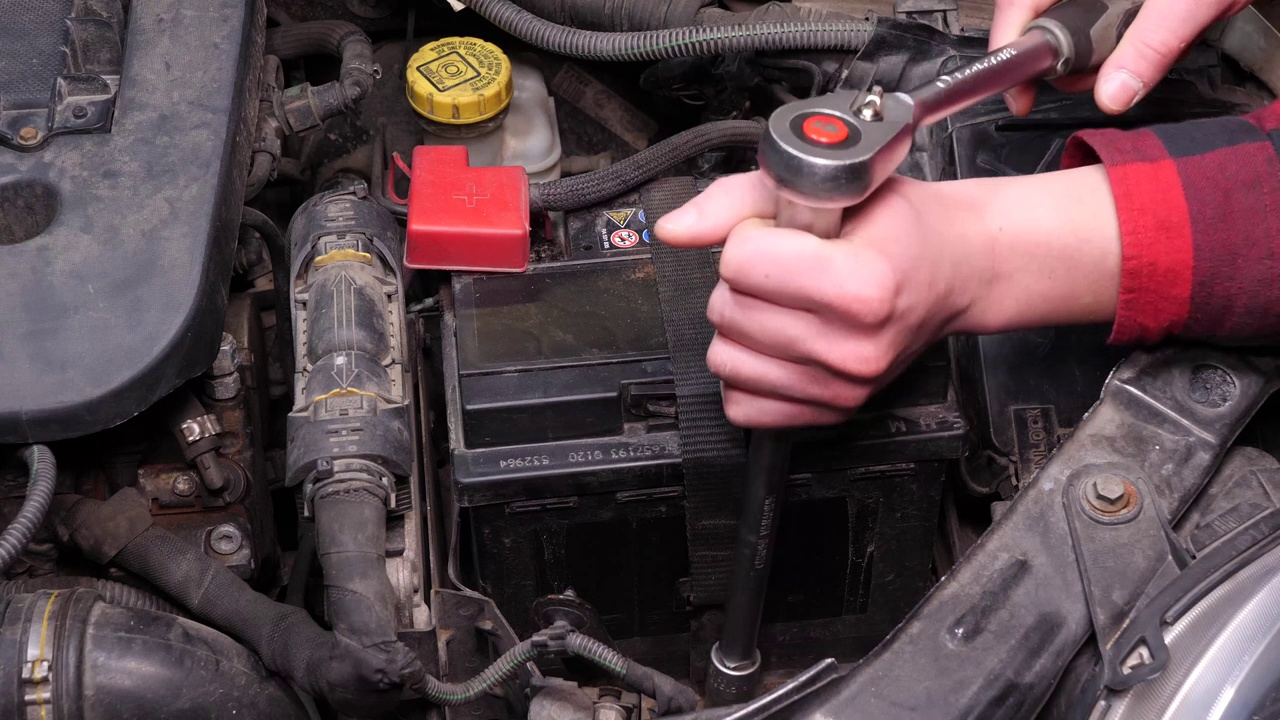battery: (389, 155, 978, 454)
pos_connected: (386, 115, 563, 268)
